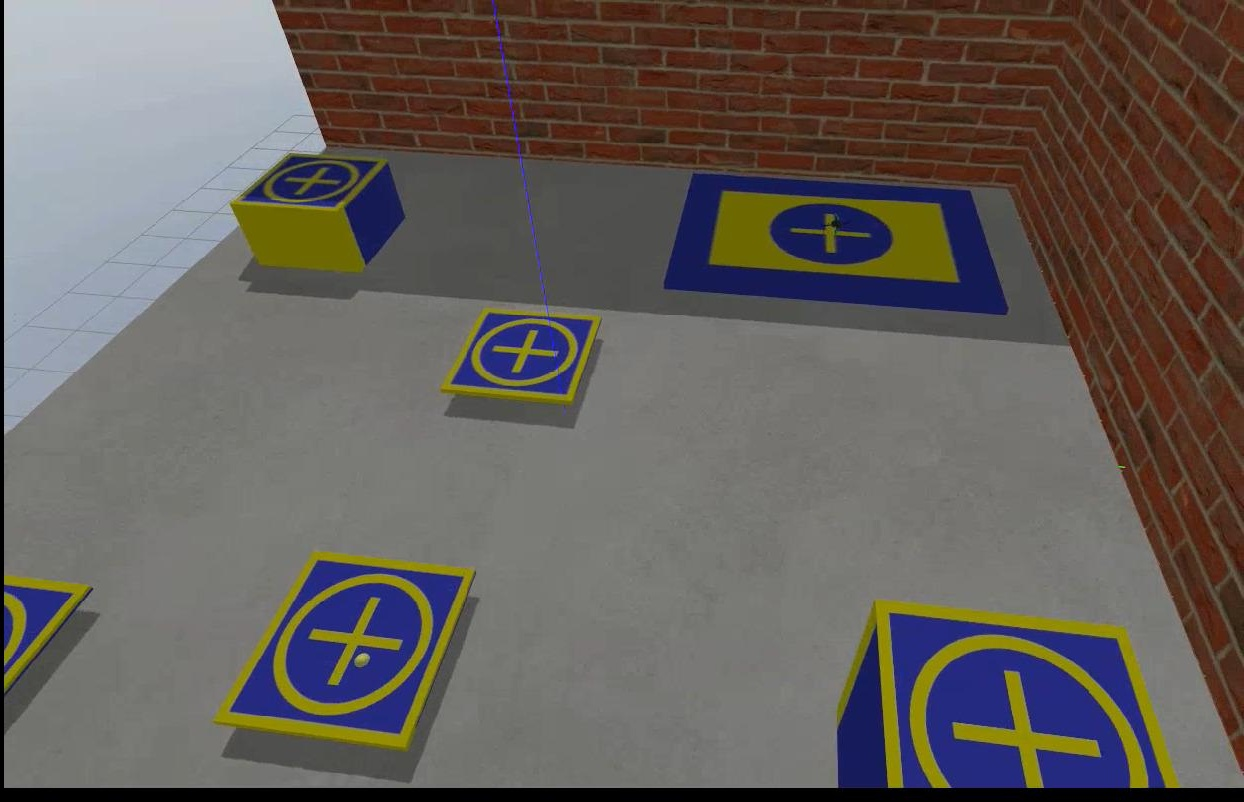large_base: (661, 172, 1007, 319)
small_base: (866, 595, 1182, 791), (210, 546, 474, 755), (436, 306, 602, 410), (0, 571, 90, 698), (228, 154, 385, 218)
